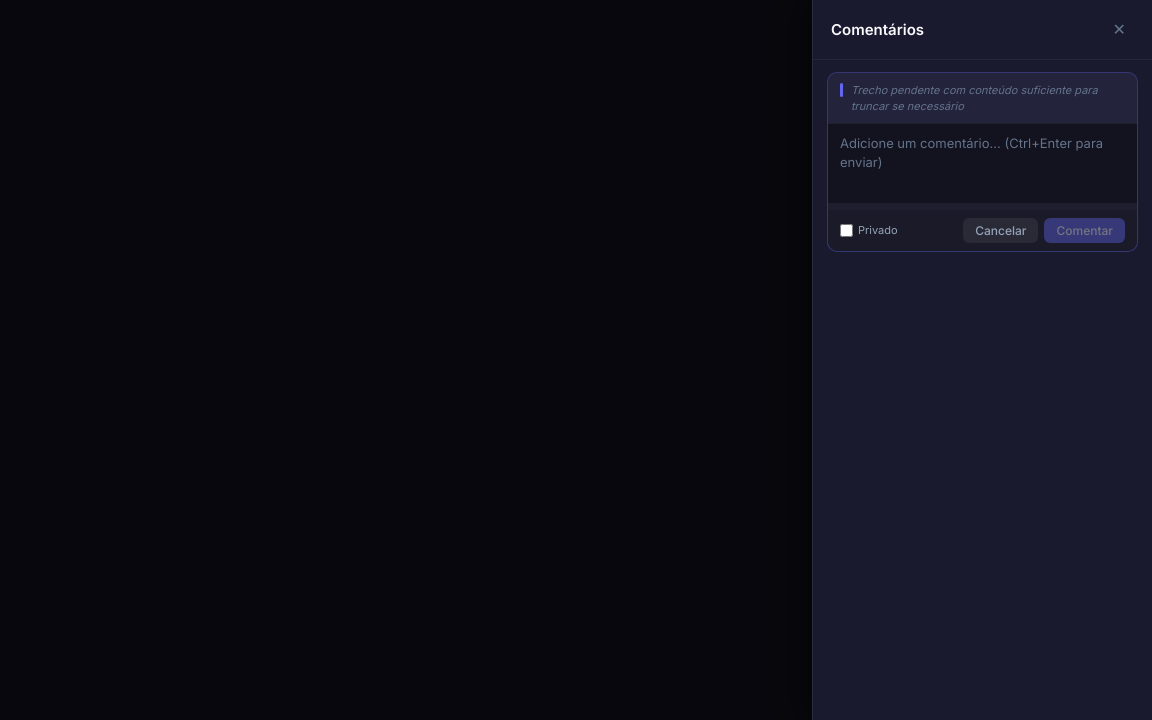
Test: CommentDrawer › submits pending comments, toggles privacy, and resets local form state on dismiss
Type "Comentário novo" into the text box named "Texto do comentário" at (982, 163), box [828, 123, 1137, 203]
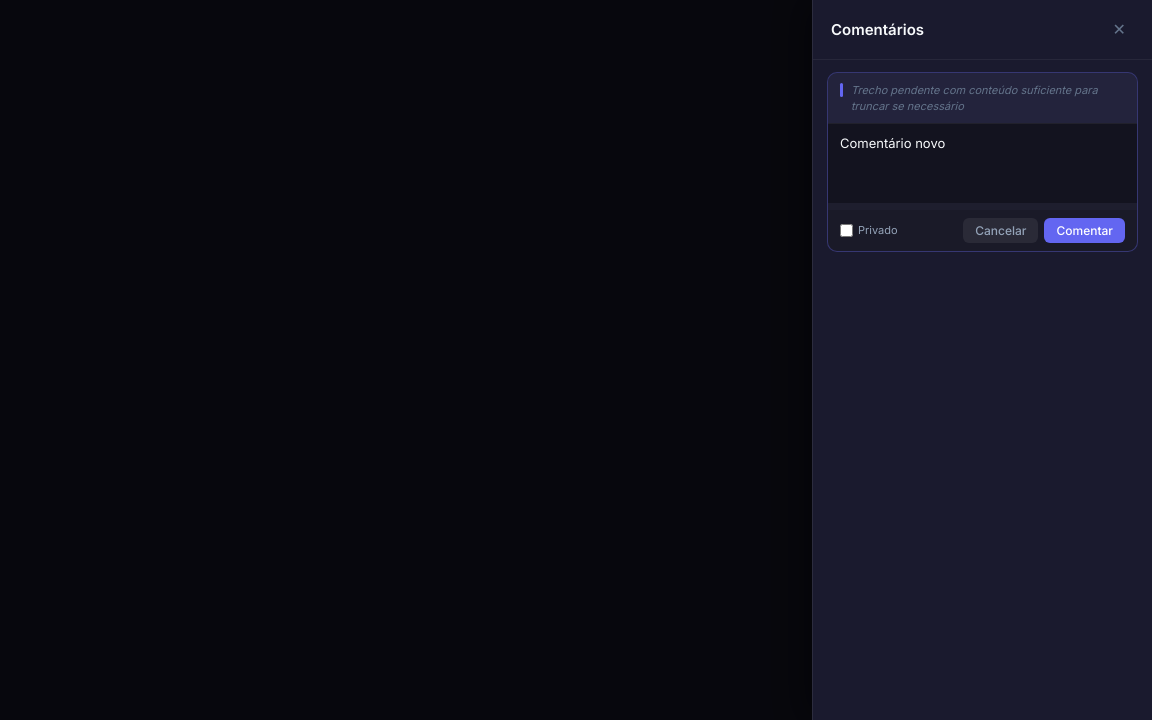
Click the checkbox named "Comentário privado" at (846, 231), box [840, 224, 853, 238]
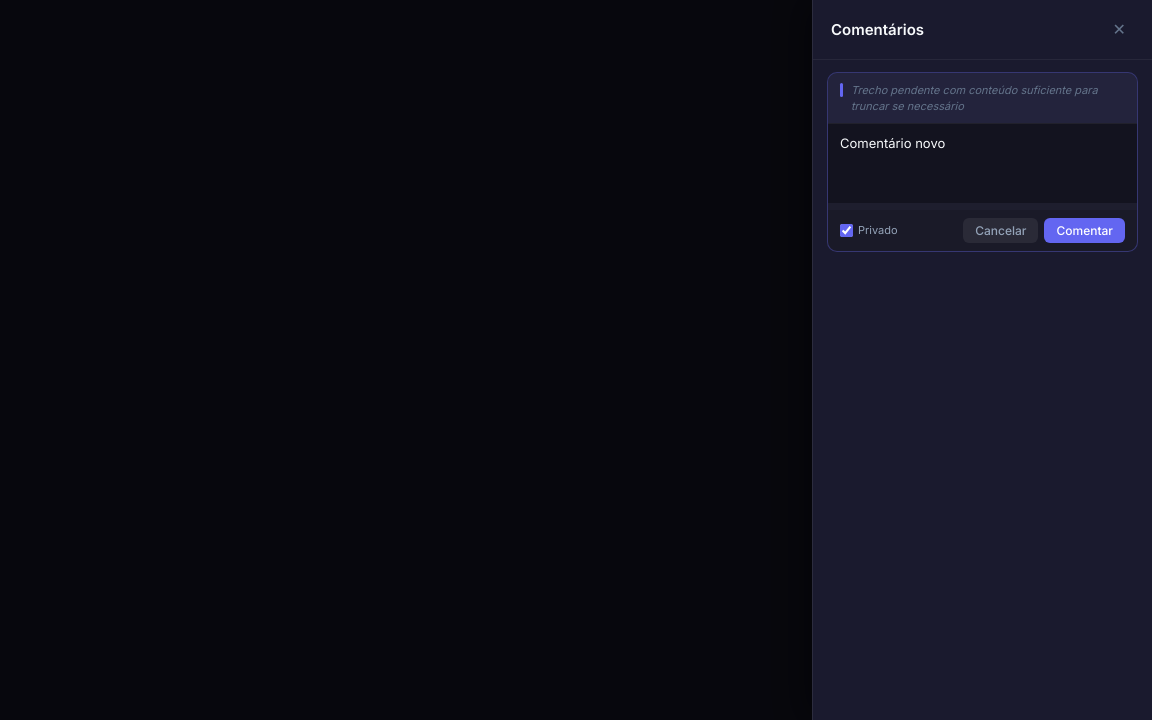
Click the button "Comentar" at (1085, 231), box [1044, 218, 1125, 244]
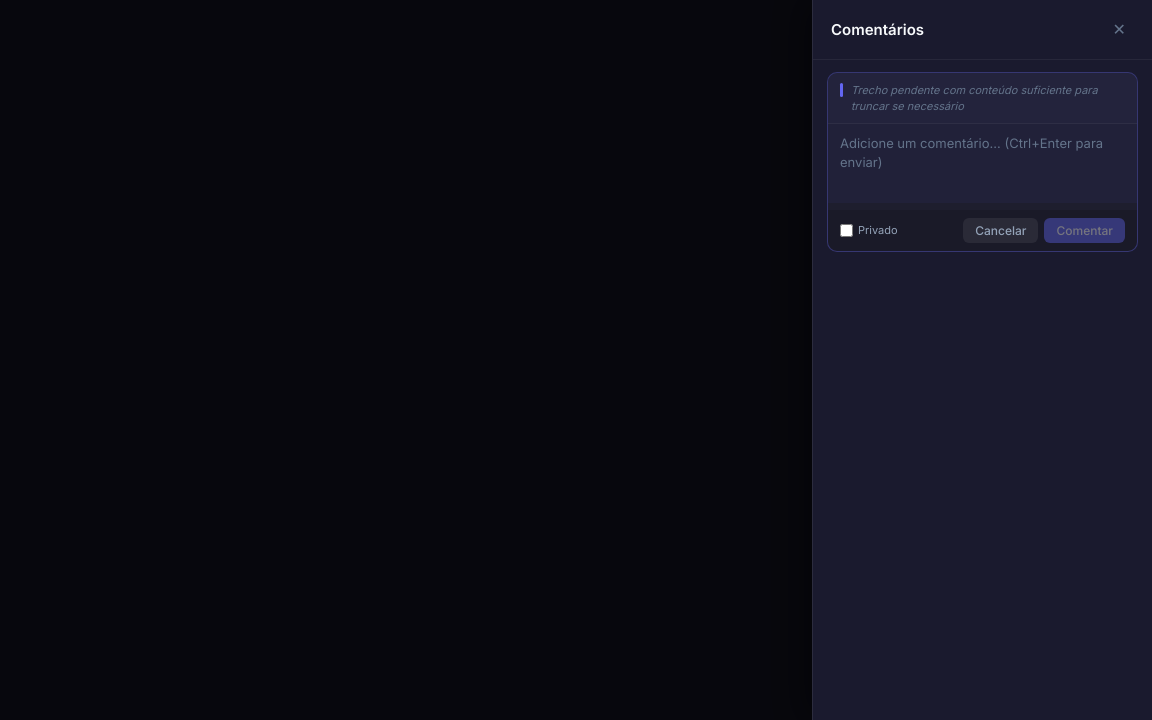
Type "Limpar ao cancelar" into the text box named "Texto do comentário" at (982, 163), box [828, 123, 1137, 203]
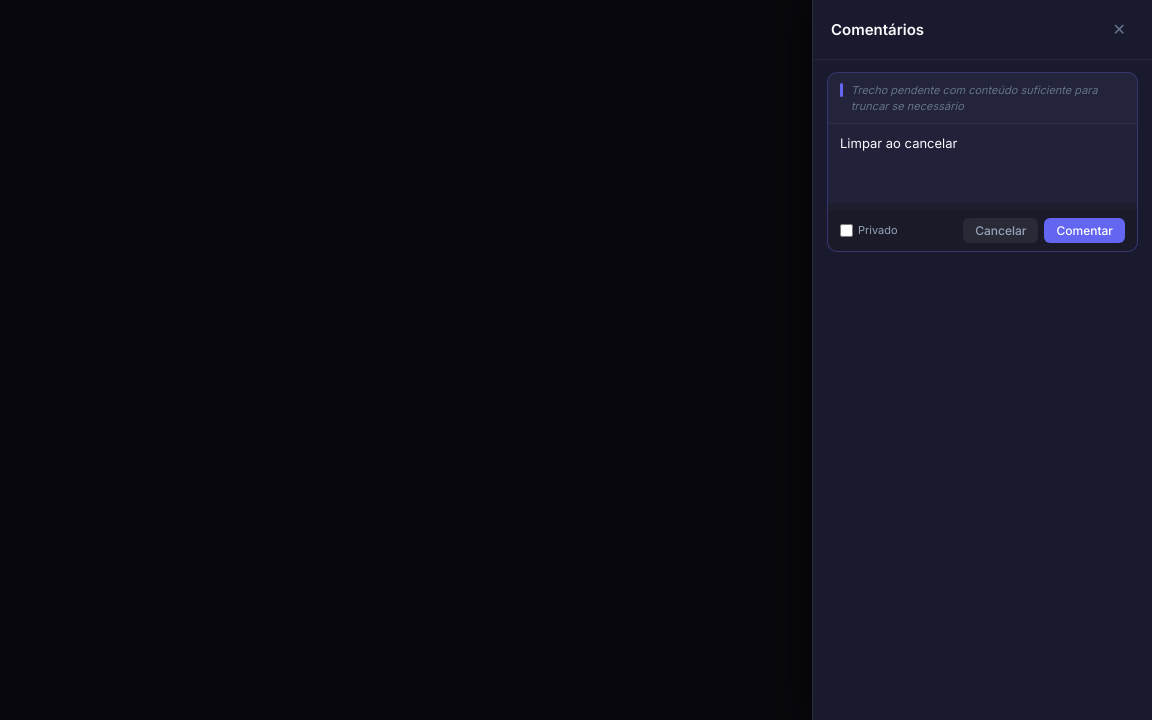
Click the button "Cancelar" at (1001, 231), box [963, 218, 1038, 244]
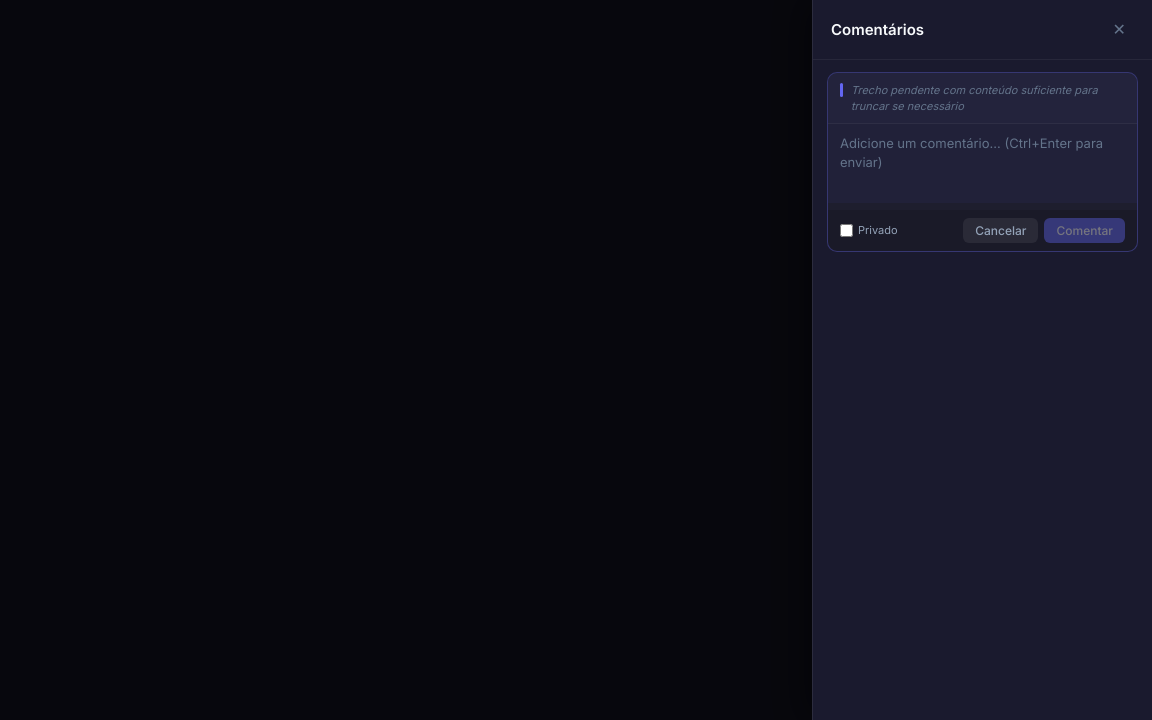
Check: the checkbox named "Comentário privado" is not checked, box [840, 224, 853, 238]
Check: the text box named "Texto do comentário" is empty, box [828, 123, 1137, 203]
